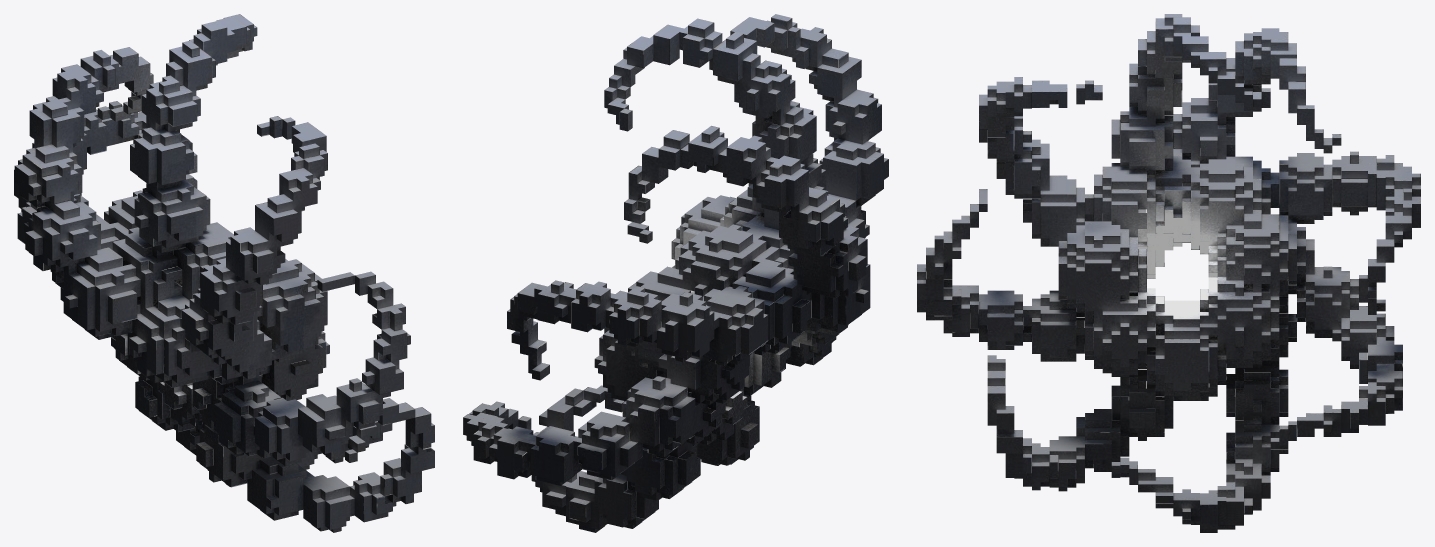
File: fractal_3.glb
3 views of the same model, side by side, from view 1: azimuth 30°, elevation 25°; view 2: azimuth 150°, elevation 25°; view 3: azimuth 270°, elevation 25° (orthographic). The views are drawn at different scales.
Size of the model in its own units: 1 by 1.39 by 1.39.
Materials: 1 (1 with a texture image).
